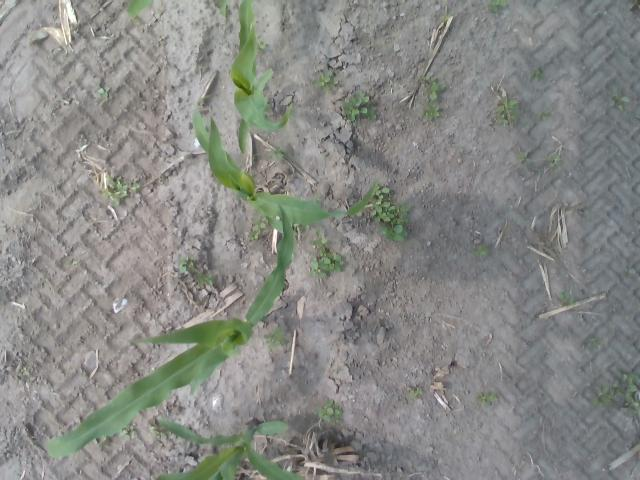Maize: (47, 201, 295, 458), (190, 107, 374, 236), (230, 0, 292, 155), (148, 417, 300, 480), (122, 0, 231, 24)
Weeds: (340, 92, 370, 120), (310, 253, 345, 275), (493, 97, 519, 126), (616, 370, 638, 403), (370, 202, 398, 222), (190, 264, 213, 287), (316, 402, 341, 422), (422, 74, 440, 100), (594, 384, 614, 406), (316, 72, 336, 92), (105, 177, 119, 202), (266, 327, 284, 345), (384, 224, 404, 238), (178, 251, 190, 274), (610, 94, 628, 109), (424, 106, 441, 120), (374, 186, 390, 200), (490, 1, 508, 12), (252, 218, 268, 230), (97, 86, 112, 98), (122, 430, 136, 442), (116, 184, 127, 198), (271, 148, 282, 162), (518, 151, 530, 163), (396, 215, 411, 224), (560, 292, 570, 305), (124, 184, 140, 192), (530, 70, 542, 80), (407, 388, 422, 396), (477, 394, 488, 404), (401, 205, 412, 215), (314, 234, 324, 244), (478, 244, 488, 254), (542, 108, 550, 120), (250, 231, 260, 240), (550, 157, 560, 165), (258, 40, 266, 50), (317, 248, 326, 256), (488, 393, 497, 401), (22, 368, 31, 376), (590, 339, 601, 345), (68, 258, 76, 265), (398, 200, 406, 206)
